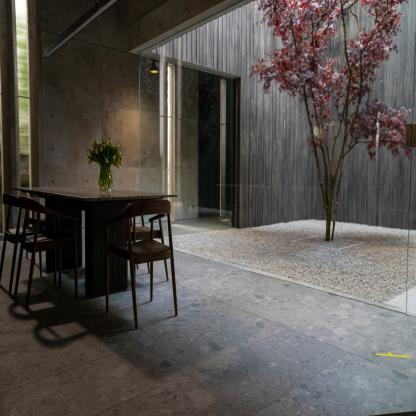chair: (100, 197, 182, 329), (18, 202, 86, 306), (0, 194, 48, 298)
light: (142, 49, 167, 80)
table: (15, 188, 177, 299)
